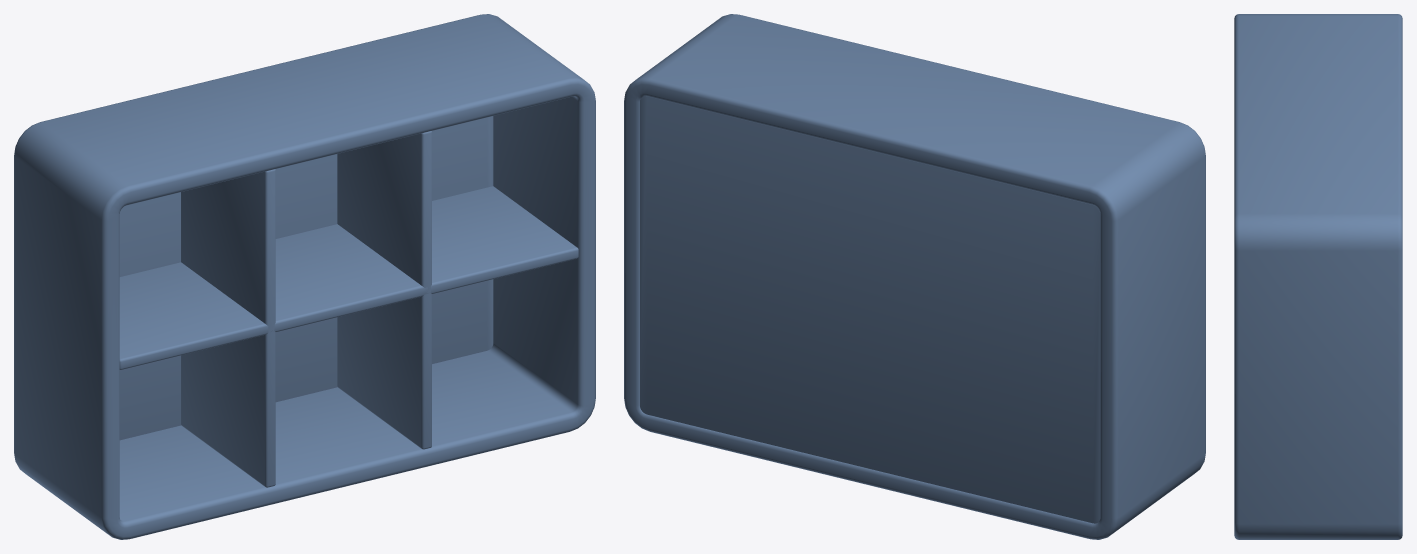
The model's file is estante_nichos_6_azul.glb.
The picture shows the model from 3 angles, left to right: view 1: azimuth 30°, elevation 25°; view 2: azimuth 150°, elevation 25°; view 3: azimuth 270°, elevation 25°; orthographic projection. The views are drawn at different scales.
Visible parts, largest first — view 1: estante_nichos_6_azul; view 2: estante_nichos_6_azul; view 3: estante_nichos_6_azul.
Boxes of the visible parts, x1,y1,x2,y2 form: estante_nichos_6_azul: (14, 14, 595, 539); estante_nichos_6_azul: (624, 14, 1205, 539); estante_nichos_6_azul: (1234, 14, 1402, 539).
Bounding box in the file's own units: 1.12 × 0.764 × 0.36.
1 material, 1 textured.
